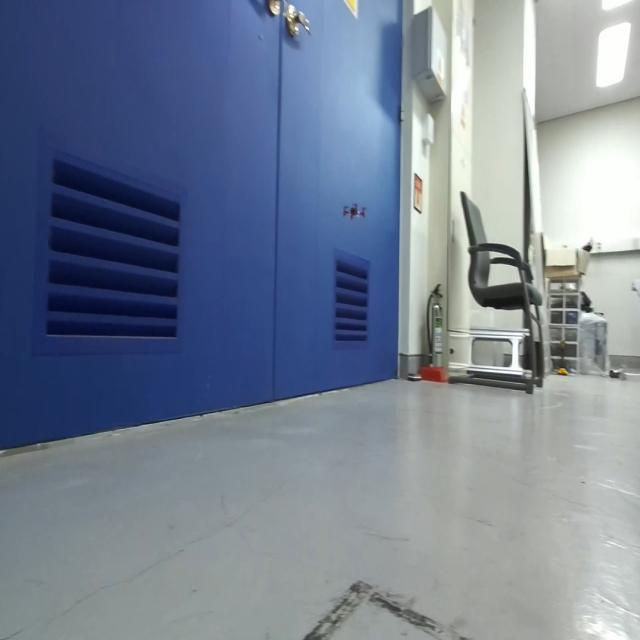crazyflie: (340, 196, 370, 228)
